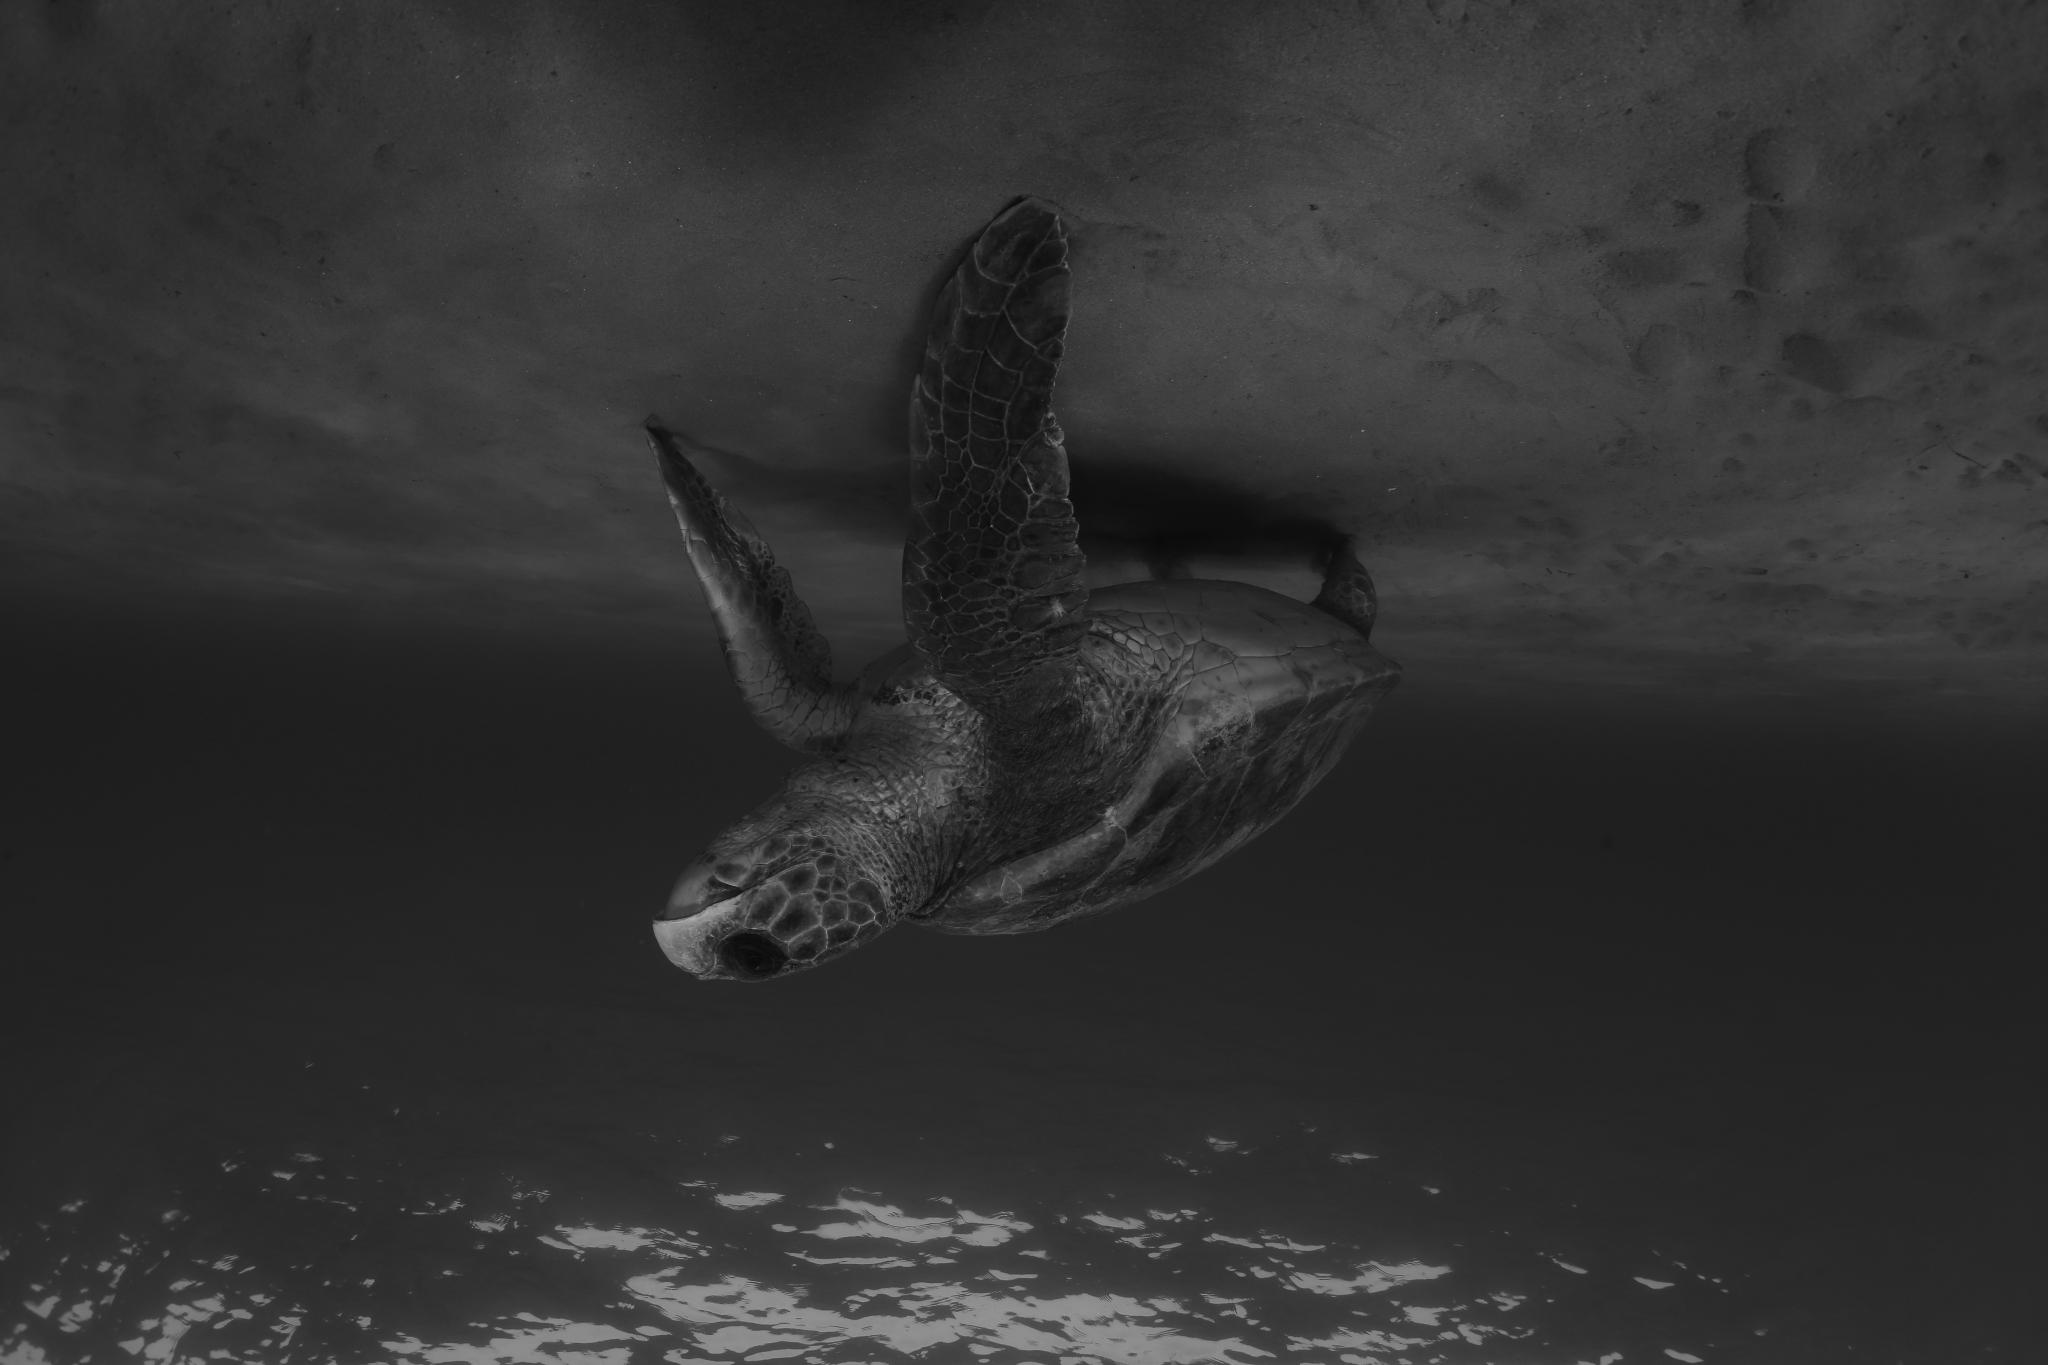Head: (654, 762, 920, 981)
